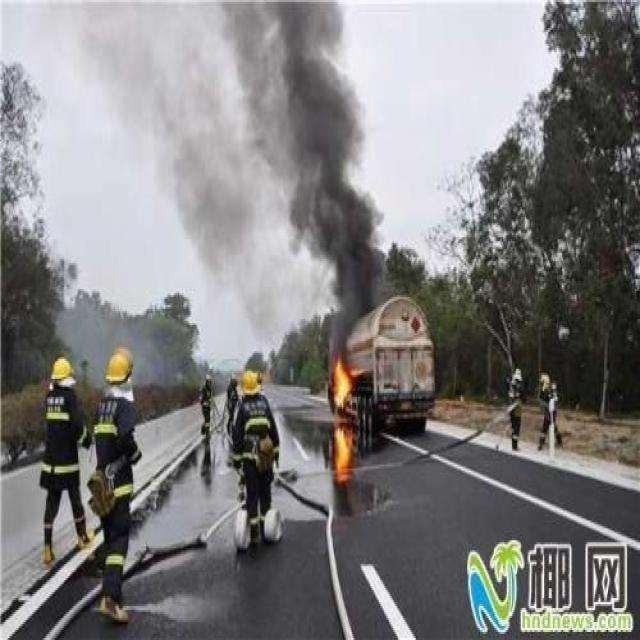Fire: (336, 359, 354, 409)
Smoke: (79, 2, 392, 363)
